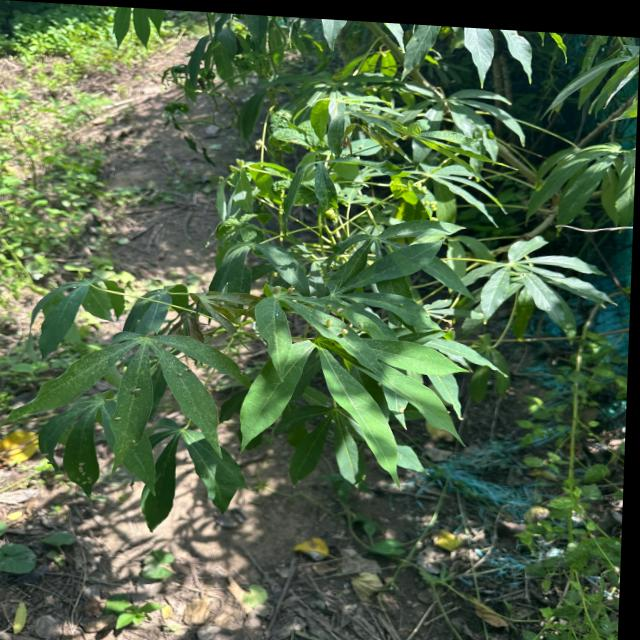Mosca: (317, 293, 352, 323), (71, 456, 98, 492), (118, 383, 149, 400), (172, 364, 191, 388), (338, 317, 354, 344), (111, 405, 125, 431), (320, 314, 337, 333), (396, 296, 413, 313)
